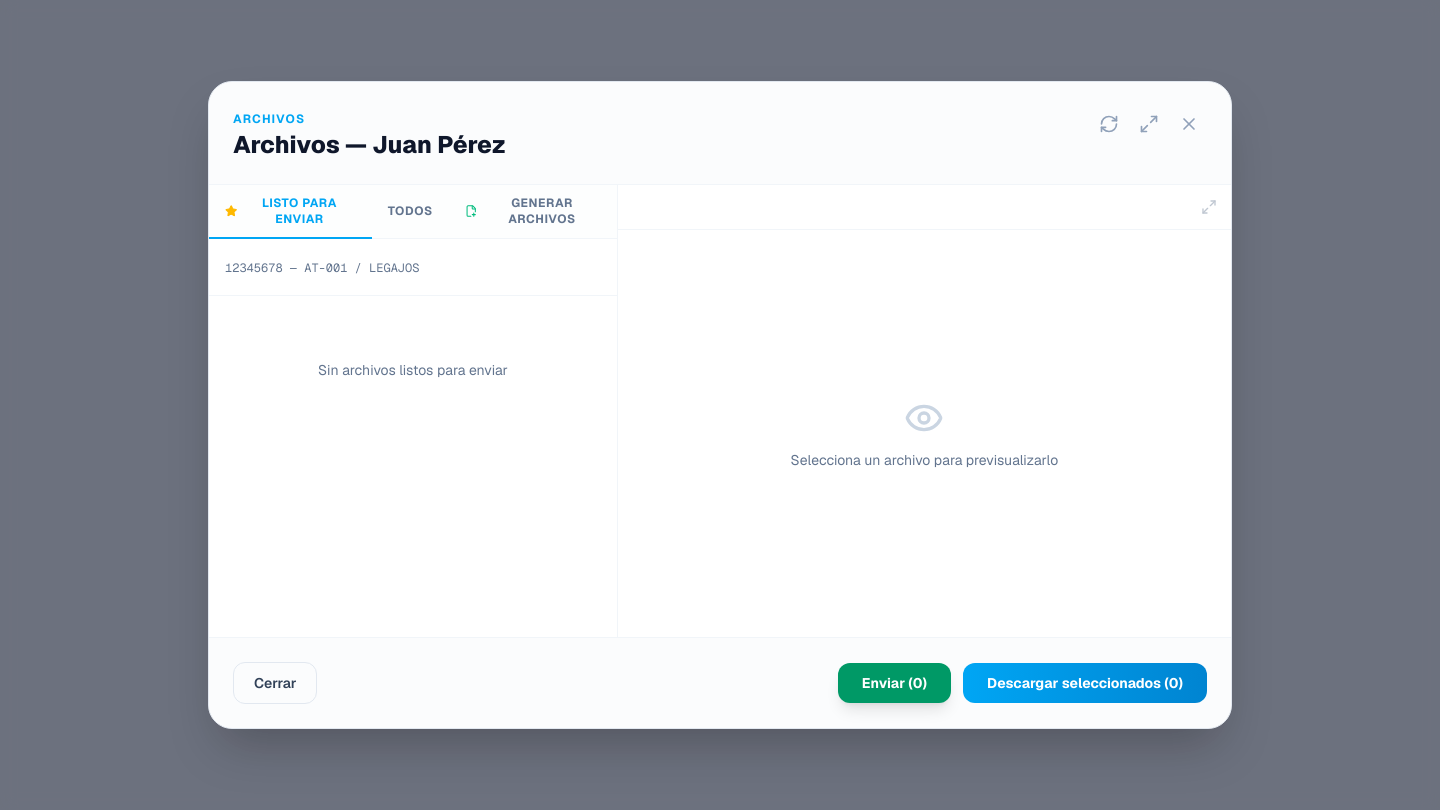
Scenario: FilesModal › clicking the header maximize toggle hides the explorer pane and shows a full-width preview
Click the button named "Maximizar" in the row of "Archivos — Juan Pérez" at [1149, 124], box [1131, 106, 1167, 142]
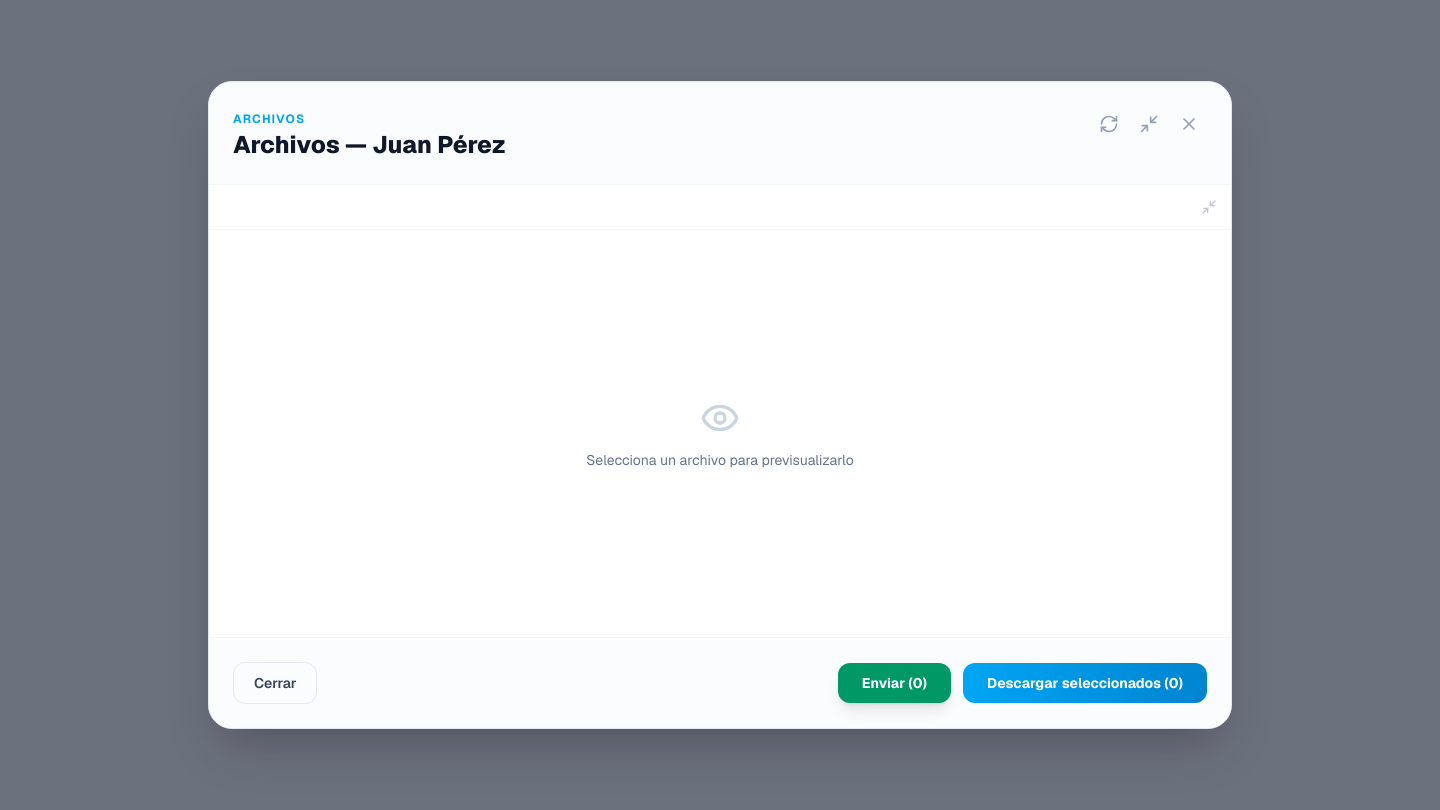
expect the button named "Minimizar" in the row of "Archivos — Juan Pérez" is shown: met, box [1131, 106, 1167, 142]
